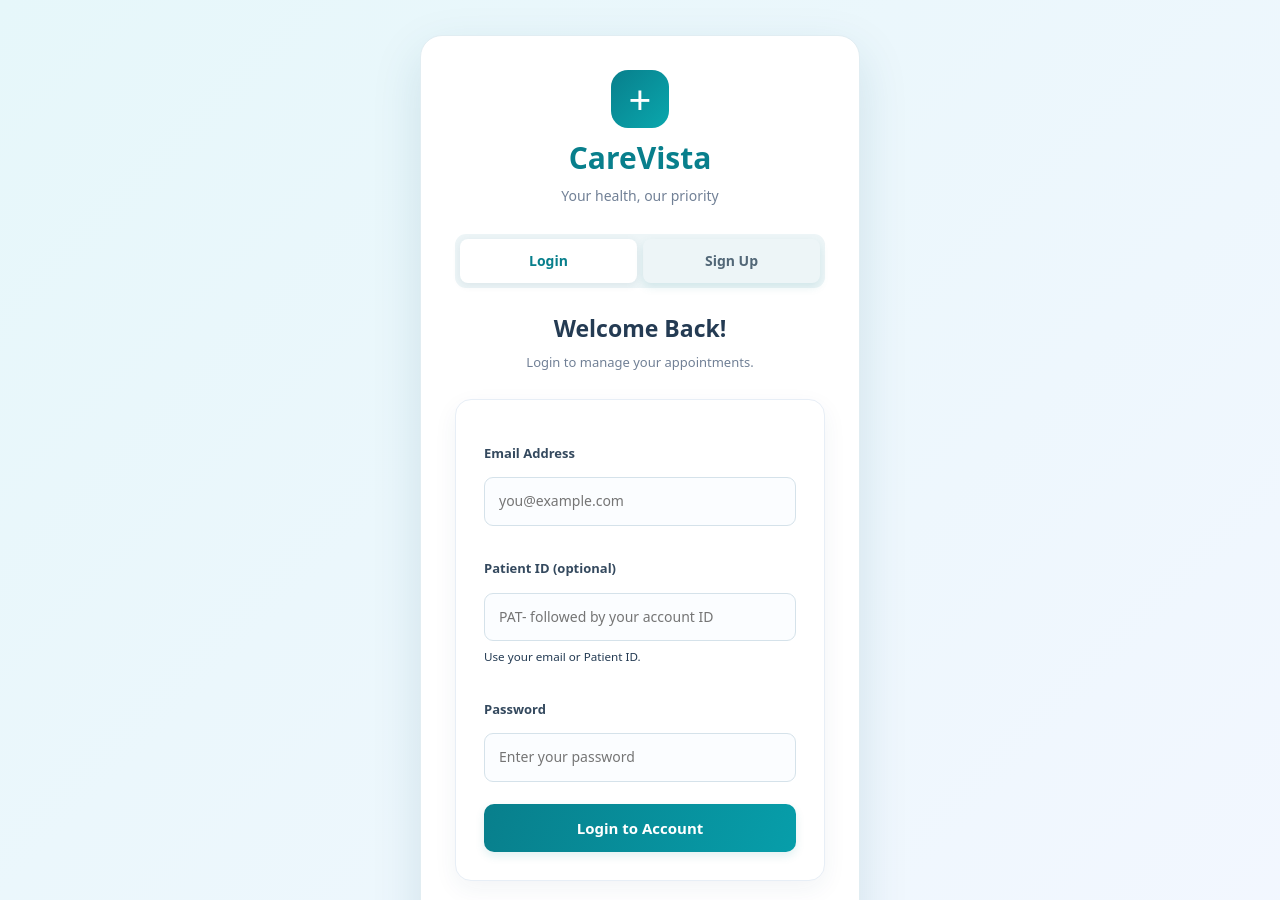
Test: protected route redirects and login returns to requested page
The image size is (1280, 900).
Expected: the heading "Welcome Back!" is shown, [554,312,726,344]
In the field labelled "Email Address": (640, 502) [484,477,796,526], type "patient@example.com"
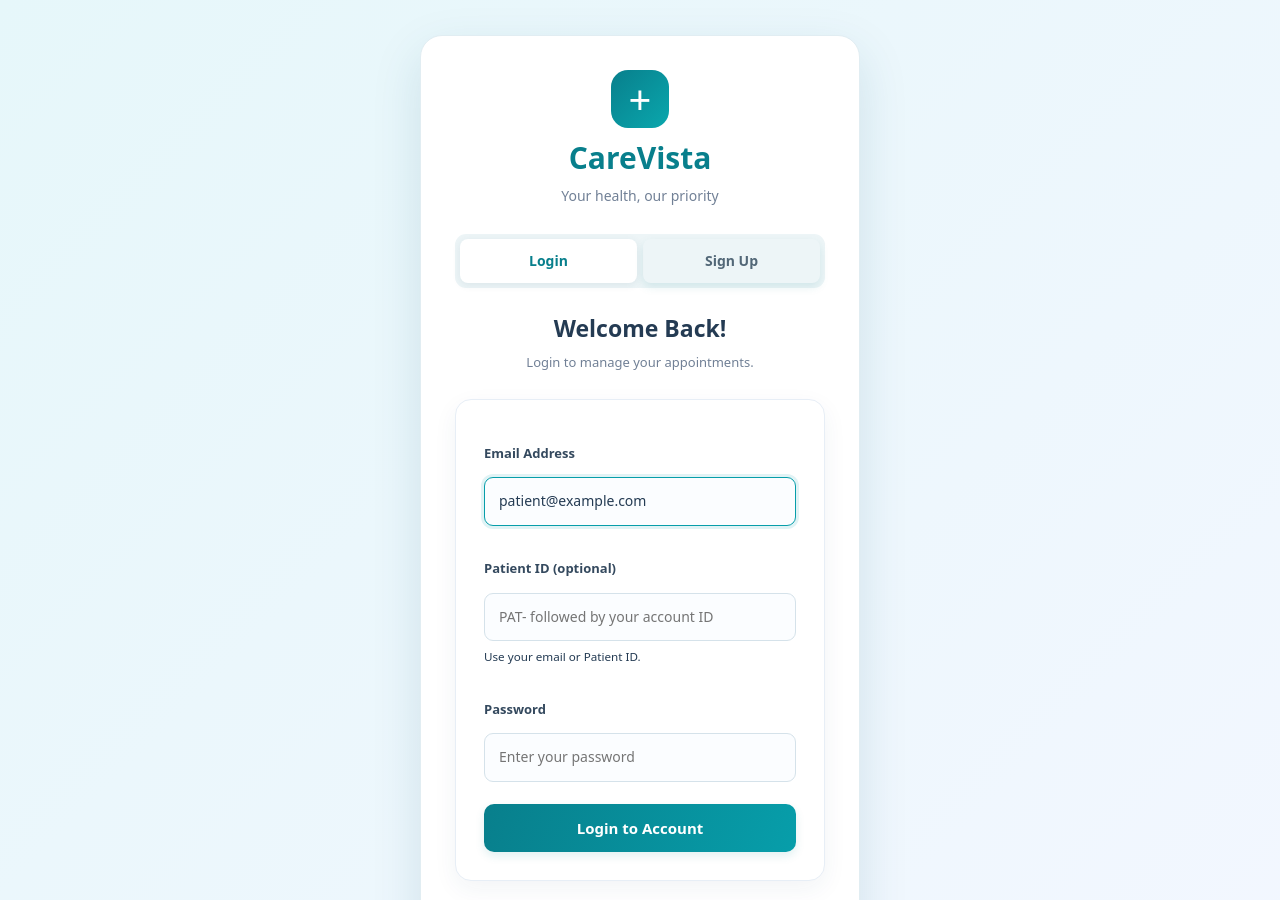
In the password field labelled "Password": (640, 758) [484,733,796,782], type "test123"
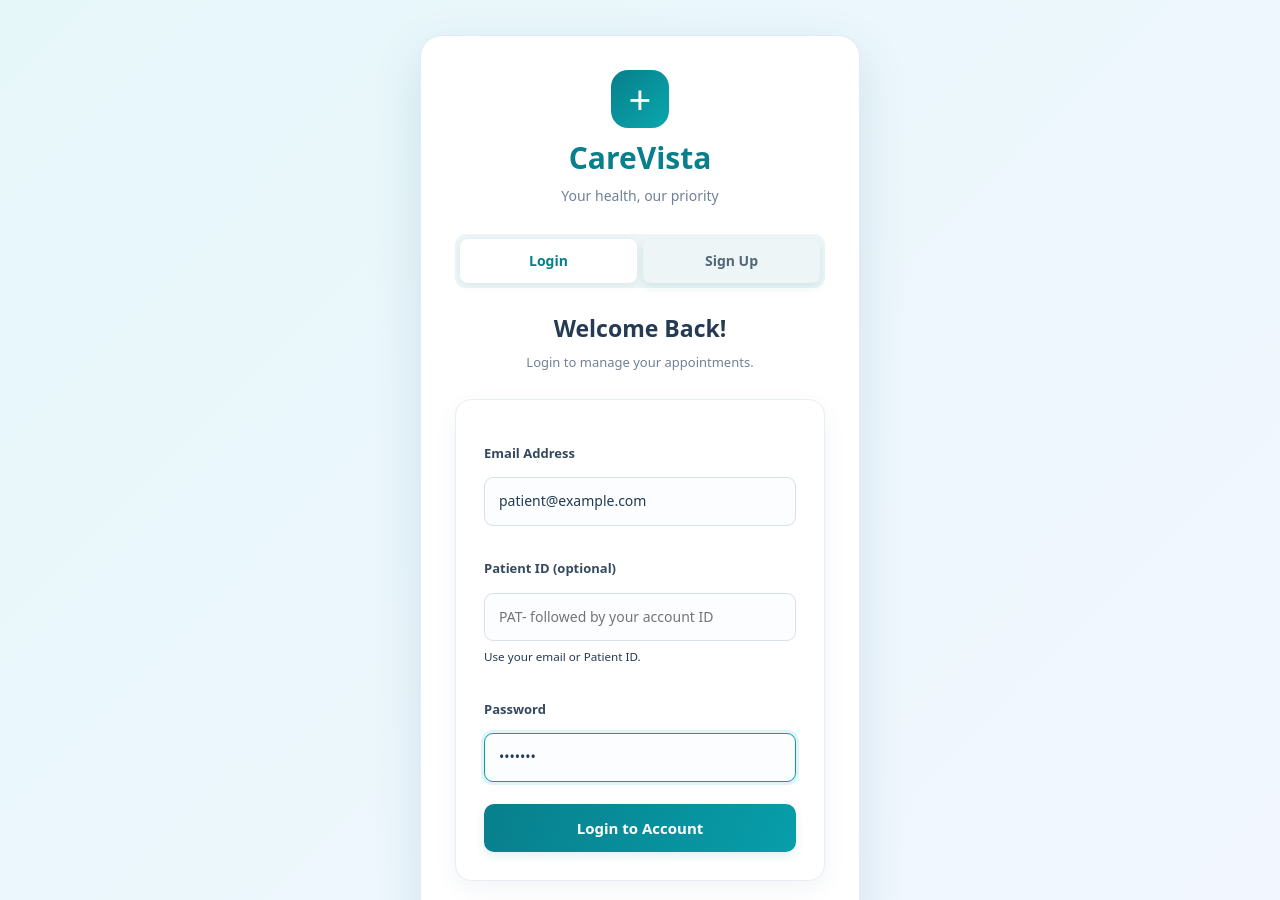
Click the button "Login to Account": click(640, 828) [484,804,796,852]
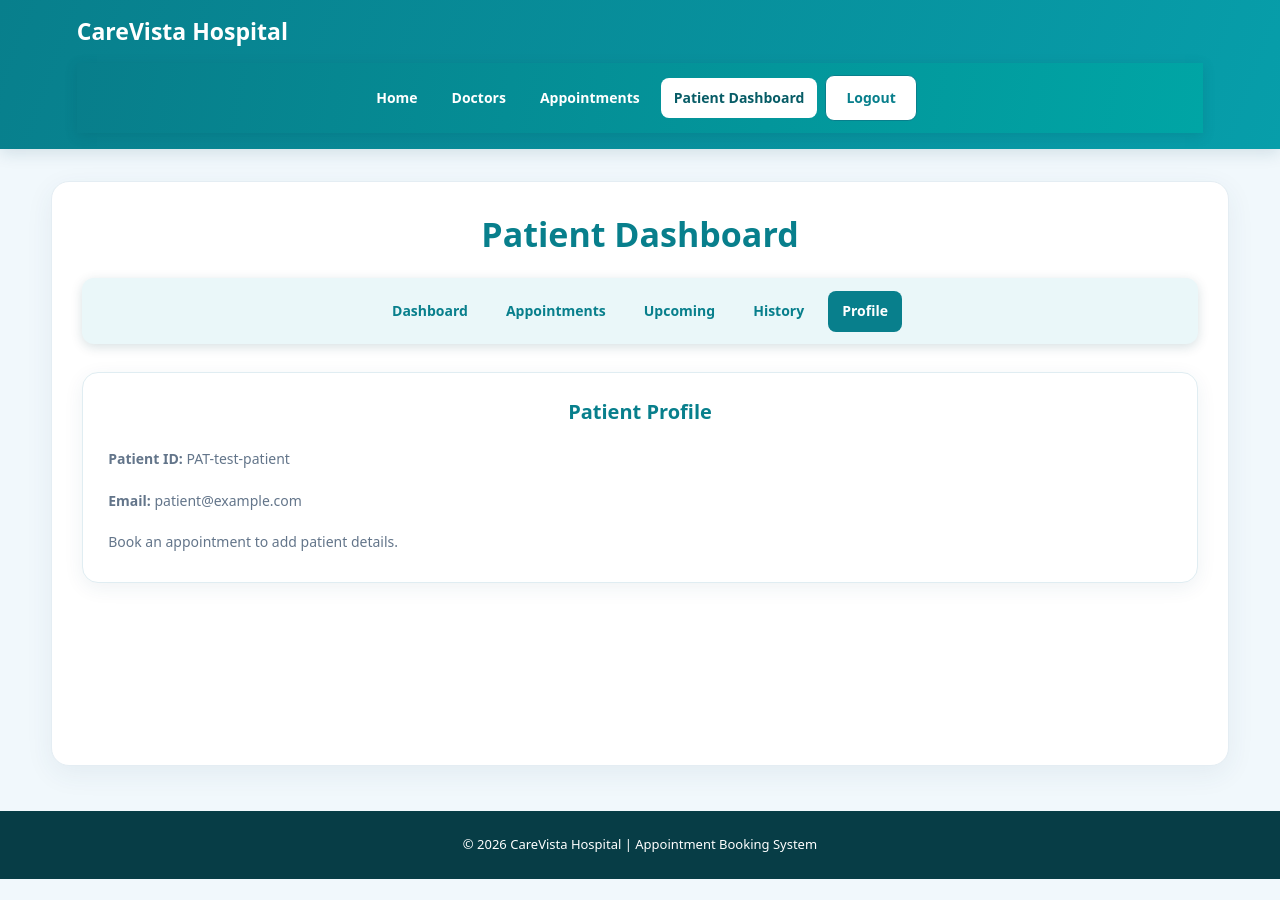
Expected: the heading "Patient Profile" is shown, [568,398,712,425]
Click the button "Logout": click(871, 98) [825,75,917,121]
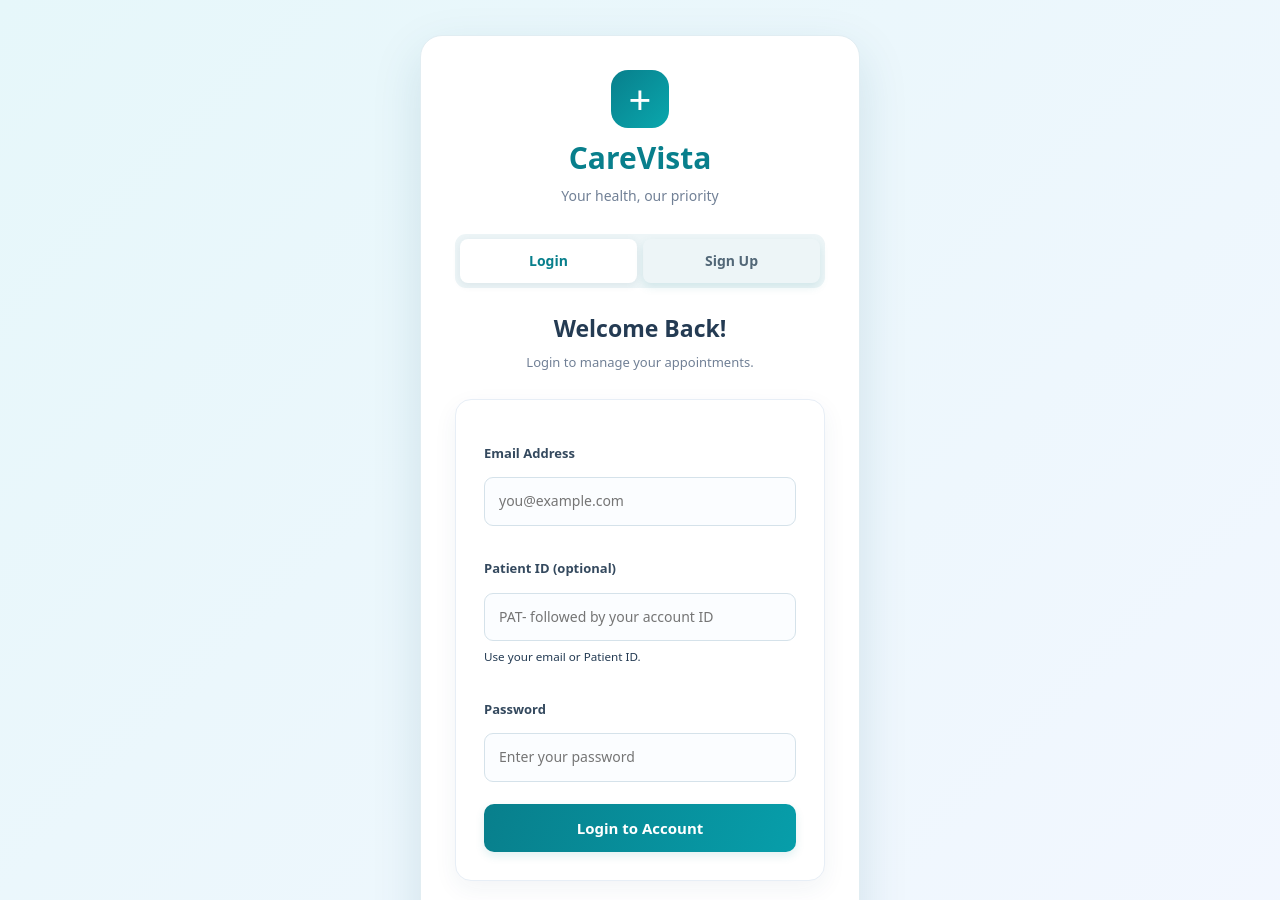
Expected: the heading "Welcome Back!" is shown, [554,312,726,344]
